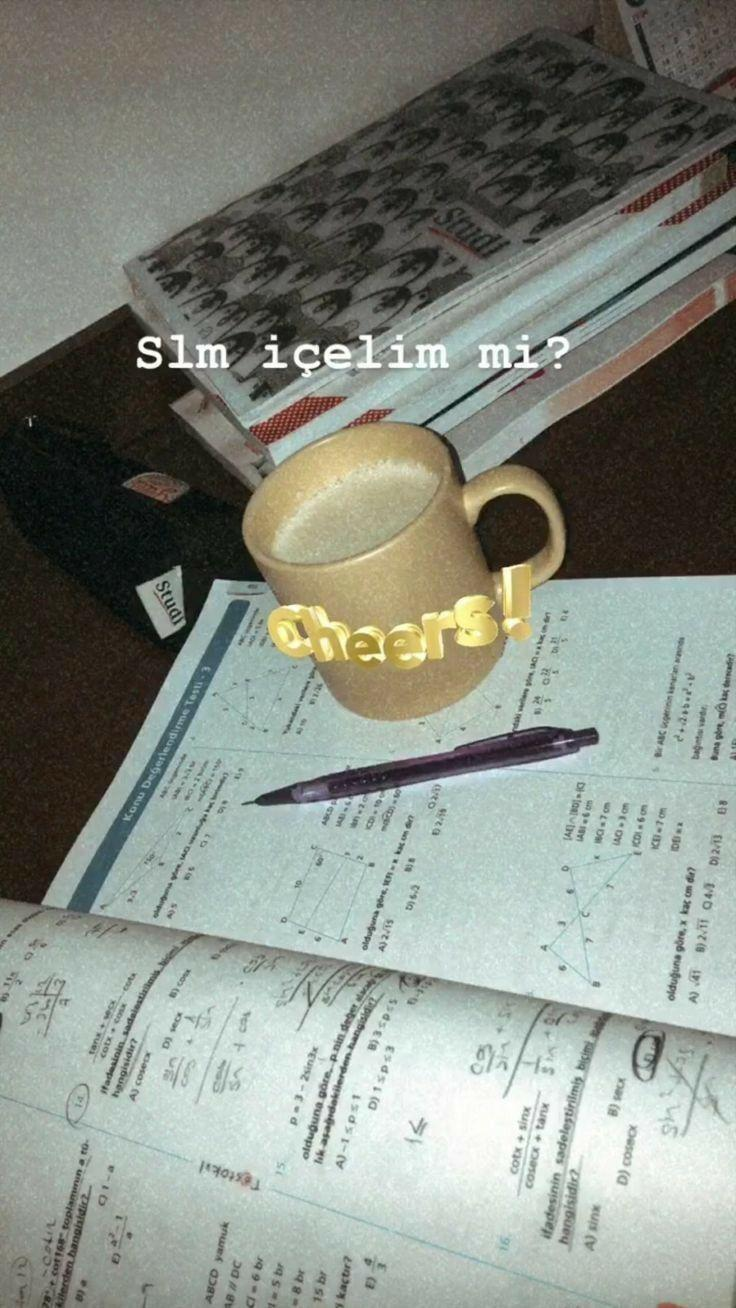cup-handle: (239, 420, 566, 723)
